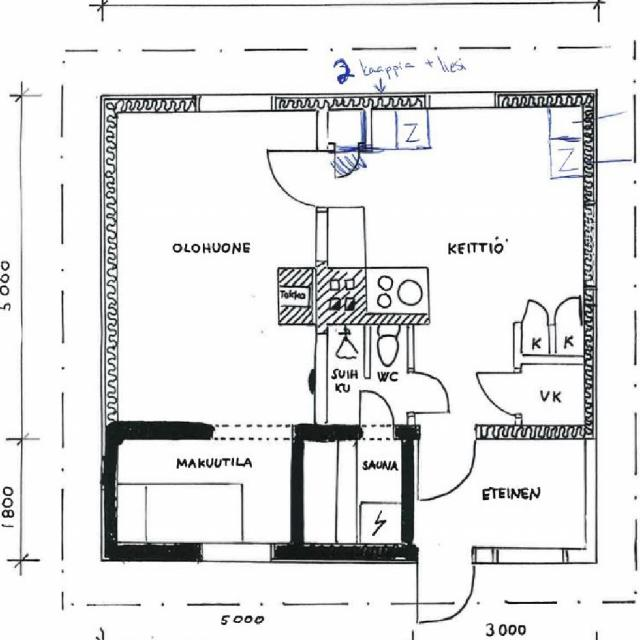door: (417, 548, 473, 623), (420, 425, 474, 498), (264, 151, 326, 206), (407, 371, 452, 412), (478, 373, 522, 412), (359, 390, 392, 438), (556, 295, 580, 324), (524, 295, 547, 324)
